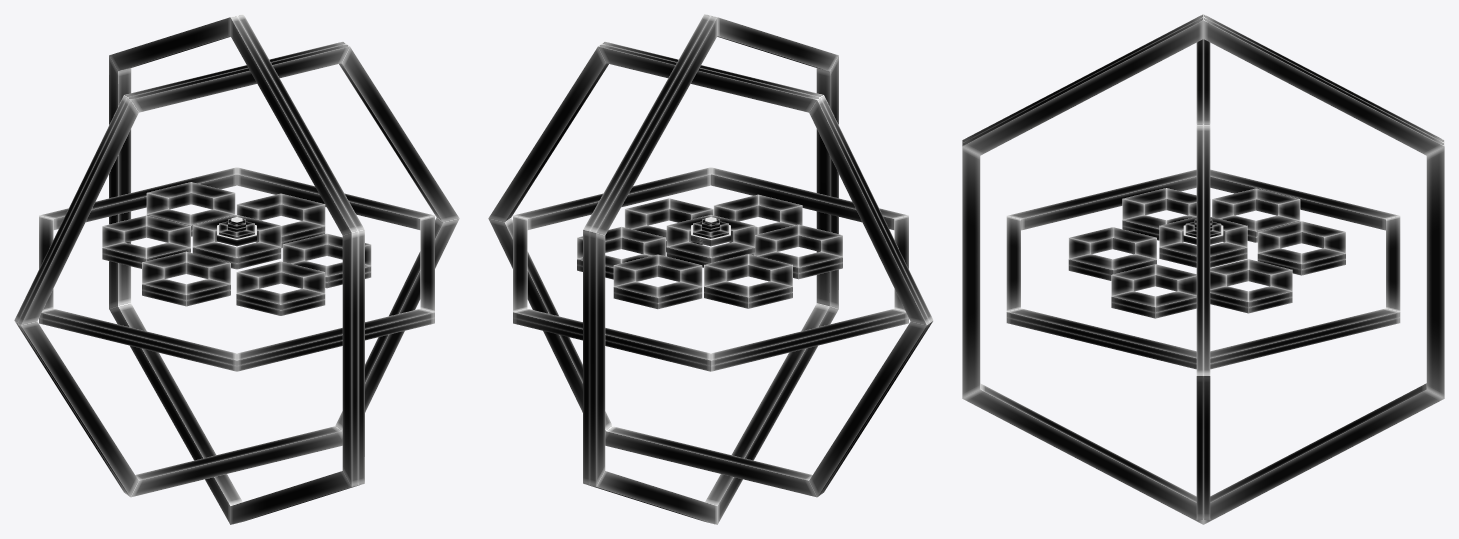
File: UXR.obj
3 views of the same model, side by side, from view 1: azimuth 30°, elevation 25°; view 2: azimuth 150°, elevation 25°; view 3: azimuth 270°, elevation 25° (orthographic).
Parts seen in each view (by area): view 1: cylinder13, cylinder14, cylinder7, cylinder3, cylinder4, cylinder5, cylinder, cylinder6, cylinder1, cylinder2; view 2: cylinder13, cylinder14, cylinder7, cylinder6, cylinder5, cylinder4, cylinder, cylinder3, cylinder2, cylinder1; view 3: cylinder14, cylinder7, cylinder13, cylinder2, cylinder6, cylinder1, cylinder3, cylinder5, cylinder, cylinder4.
Boxes of the visible parts, bbox=[...] form: cylinder13: bbox=[14, 41, 459, 497]; cylinder14: bbox=[109, 14, 364, 524]; cylinder7: bbox=[39, 167, 434, 371]; cylinder3: bbox=[236, 261, 325, 315]; cylinder4: bbox=[142, 251, 230, 306]; cylinder5: bbox=[102, 215, 190, 268]; cylinder: bbox=[192, 215, 281, 269]; cylinder6: bbox=[146, 182, 235, 236]; cylinder1: bbox=[236, 193, 325, 248]; cylinder2: bbox=[282, 233, 371, 288]; cylinder13: bbox=[488, 41, 933, 497]; cylinder14: bbox=[583, 14, 838, 524]; cylinder7: bbox=[513, 167, 908, 371]; cylinder6: bbox=[613, 254, 702, 309]; cylinder5: bbox=[704, 254, 792, 308]; cylinder4: bbox=[754, 224, 842, 279]; cylinder: bbox=[666, 215, 755, 267]; cylinder3: bbox=[713, 194, 802, 242]; cylinder2: bbox=[624, 198, 713, 252]; cylinder1: bbox=[577, 226, 665, 279]; cylinder14: bbox=[962, 14, 1444, 524]; cylinder7: bbox=[1006, 169, 1400, 369]; cylinder13: bbox=[1196, 39, 1210, 519]; cylinder2: bbox=[1111, 264, 1196, 318]; cylinder6: bbox=[1257, 221, 1345, 275]; cylinder1: bbox=[1210, 259, 1292, 313]; cylinder3: bbox=[1068, 227, 1156, 280]; cylinder5: bbox=[1212, 188, 1300, 242]; cylinder: bbox=[1159, 217, 1247, 267]; cylinder4: bbox=[1122, 188, 1210, 240].
Bounding box in the file's own units: 9.87 × 10.92 × 9.46.
